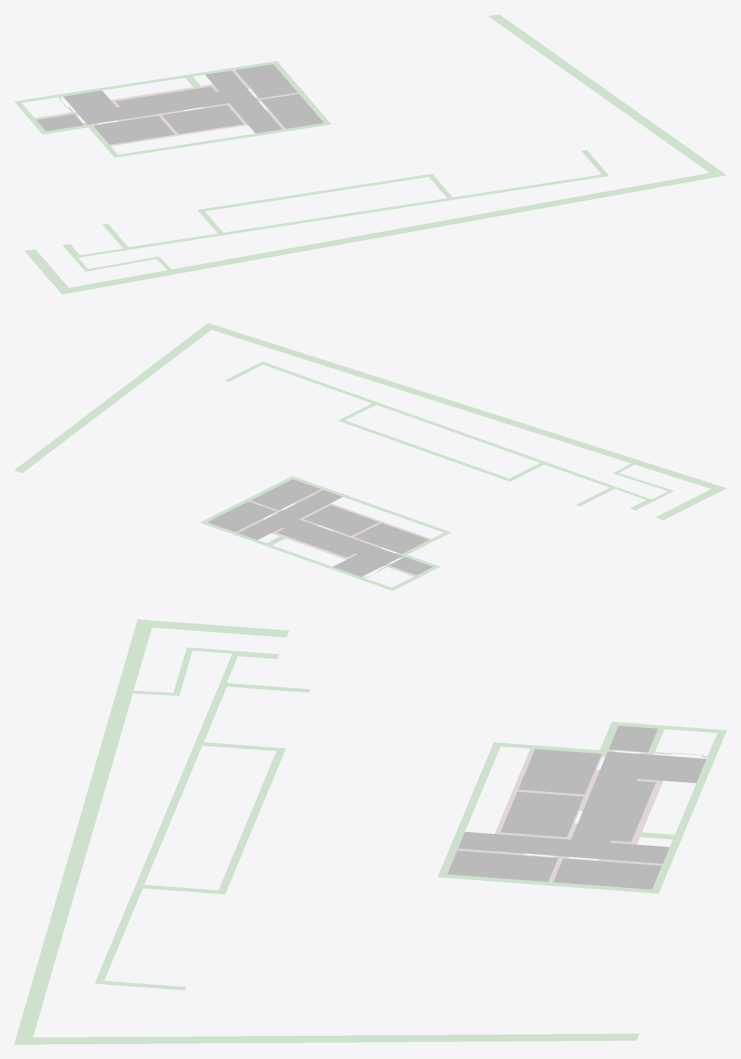
Rendered from Grundriss Kellergeschoss_3.glb.
The picture shows the model from 3 angles, top to bottom: view 1: azimuth 30°, elevation 25°; view 2: azimuth 150°, elevation 25°; view 3: azimuth 270°, elevation 25°; orthographic projection. The views are drawn at different scales.
Parts seen in each view (by area): view 1: SectionBody_58,d8938ba9-1408-46d0-8d26-ec291ab291a2, SectionBody_40,4f1acf2b-7f2e-4612-9425-6f8fe1d1f22c, SectionBody_50,54f77693-ed38-455d-924d-131b2d241f34, SectionBody_51,739839fe-582c-46f9-984d-6acb4318c601, SectionBody_27,fcdd2191-21df-4166-8365-80c6cc127b71, SectionBody_53,a129953a-5615-4086-8058-d987586a3560, SectionBody_9,5e9910b8-ef5e-4b7b-a94d-14f158ee2309, SectionBody_56,9a3dd0fe-940e-4f4b-a955-e41f648d4713, SectionBody_38,3d508e53-df0b-4478-9011-aae60bf769f3, SectionBody_19,ae234ce4-fea6-450d-b5f1-5f2435ac30b6, SectionBody_55,4cef6a23-a4a2-4ec9-b2fb-d551e5929b31, SectionBody_42,898e0191-f130-4191-be65-129fb487e694 (+2 smaller); view 2: SectionBody_58,d8938ba9-1408-46d0-8d26-ec291ab291a2, SectionBody_40,4f1acf2b-7f2e-4612-9425-6f8fe1d1f22c, SectionBody_50,54f77693-ed38-455d-924d-131b2d241f34, SectionBody_51,739839fe-582c-46f9-984d-6acb4318c601, SectionBody_27,fcdd2191-21df-4166-8365-80c6cc127b71, SectionBody_53,a129953a-5615-4086-8058-d987586a3560, SectionBody_9,5e9910b8-ef5e-4b7b-a94d-14f158ee2309, SectionBody_56,9a3dd0fe-940e-4f4b-a955-e41f648d4713, SectionBody_38,3d508e53-df0b-4478-9011-aae60bf769f3, SectionBody_19,ae234ce4-fea6-450d-b5f1-5f2435ac30b6, SectionBody_55,4cef6a23-a4a2-4ec9-b2fb-d551e5929b31, SectionBody_42,898e0191-f130-4191-be65-129fb487e694 (+1 smaller); view 3: SectionBody_58,d8938ba9-1408-46d0-8d26-ec291ab291a2, SectionBody_40,4f1acf2b-7f2e-4612-9425-6f8fe1d1f22c, SectionBody_51,739839fe-582c-46f9-984d-6acb4318c601, SectionBody_27,fcdd2191-21df-4166-8365-80c6cc127b71, SectionBody_53,a129953a-5615-4086-8058-d987586a3560, SectionBody_50,54f77693-ed38-455d-924d-131b2d241f34, SectionBody_9,5e9910b8-ef5e-4b7b-a94d-14f158ee2309, SectionBody_56,9a3dd0fe-940e-4f4b-a955-e41f648d4713, SectionBody_19,ae234ce4-fea6-450d-b5f1-5f2435ac30b6, SectionBody_38,3d508e53-df0b-4478-9011-aae60bf769f3, SectionBody_55,4cef6a23-a4a2-4ec9-b2fb-d551e5929b31, SectionBody_42,898e0191-f130-4191-be65-129fb487e694 (+3 smaller).
Part boxes in pixels (box(x1,y1,x2,y2)): SectionBody_58,d8938ba9-1408-46d0-8d26-ec291ab291a2: box(63, 70, 281, 133); SectionBody_40,4f1acf2b-7f2e-4612-9425-6f8fe1d1f22c: box(58, 171, 726, 294); SectionBody_50,54f77693-ed38-455d-924d-131b2d241f34: box(123, 173, 608, 250); SectionBody_51,739839fe-582c-46f9-984d-6acb4318c601: box(488, 14, 646, 121); SectionBody_27,fcdd2191-21df-4166-8365-80c6cc127b71: box(93, 115, 174, 144); SectionBody_53,a129953a-5615-4086-8058-d987586a3560: box(162, 105, 242, 133); SectionBody_9,5e9910b8-ef5e-4b7b-a94d-14f158ee2309: box(261, 94, 323, 128); SectionBody_56,9a3dd0fe-940e-4f4b-a955-e41f648d4713: box(235, 64, 297, 98); SectionBody_38,3d508e53-df0b-4478-9011-aae60bf769f3: box(14, 61, 278, 103); SectionBody_19,ae234ce4-fea6-450d-b5f1-5f2435ac30b6: box(638, 119, 720, 172); SectionBody_55,4cef6a23-a4a2-4ec9-b2fb-d551e5929b31: box(203, 174, 428, 211); SectionBody_42,898e0191-f130-4191-be65-129fb487e694: box(118, 123, 325, 156); SectionBody_58,d8938ba9-1408-46d0-8d26-ec291ab291a2: box(238, 490, 402, 576); SectionBody_40,4f1acf2b-7f2e-4612-9425-6f8fe1d1f22c: box(203, 323, 726, 491); SectionBody_50,54f77693-ed38-455d-924d-131b2d241f34: box(259, 361, 616, 488); SectionBody_51,739839fe-582c-46f9-984d-6acb4318c601: box(14, 374, 148, 472); SectionBody_27,fcdd2191-21df-4166-8365-80c6cc127b71: box(354, 523, 428, 553); SectionBody_53,a129953a-5615-4086-8058-d987586a3560: box(303, 505, 378, 535); SectionBody_9,5e9910b8-ef5e-4b7b-a94d-14f158ee2309: box(251, 479, 320, 510); SectionBody_56,9a3dd0fe-940e-4f4b-a955-e41f648d4713: box(208, 501, 276, 532); SectionBody_38,3d508e53-df0b-4478-9011-aae60bf769f3: box(200, 521, 395, 590); SectionBody_19,ae234ce4-fea6-450d-b5f1-5f2435ac30b6: box(140, 327, 210, 376); SectionBody_55,4cef6a23-a4a2-4ec9-b2fb-d551e5929b31: box(342, 420, 508, 480); SectionBody_42,898e0191-f130-4191-be65-129fb487e694: box(293, 477, 446, 532); SectionBody_58,d8938ba9-1408-46d0-8d26-ec291ab291a2: box(458, 751, 706, 863); SectionBody_40,4f1acf2b-7f2e-4612-9425-6f8fe1d1f22c: box(14, 619, 153, 1044); SectionBody_51,739839fe-582c-46f9-984d-6acb4318c601: box(231, 1033, 638, 1043); SectionBody_27,fcdd2191-21df-4166-8365-80c6cc127b71: box(518, 749, 601, 794); SectionBody_53,a129953a-5615-4086-8058-d987586a3560: box(500, 791, 583, 837); SectionBody_50,54f77693-ed38-455d-924d-131b2d241f34: box(94, 682, 227, 984); SectionBody_9,5e9910b8-ef5e-4b7b-a94d-14f158ee2309: box(447, 850, 557, 881); SectionBody_56,9a3dd0fe-940e-4f4b-a955-e41f648d4713: box(553, 858, 661, 889); SectionBody_19,ae234ce4-fea6-450d-b5f1-5f2435ac30b6: box(31, 1036, 231, 1044); SectionBody_38,3d508e53-df0b-4478-9011-aae60bf769f3: box(650, 729, 726, 893); SectionBody_55,4cef6a23-a4a2-4ec9-b2fb-d551e5929b31: box(218, 751, 284, 890); SectionBody_42,898e0191-f130-4191-be65-129fb487e694: box(439, 745, 500, 874).
Bounding box in the file's own units: 30107 × 0 × 21325.
